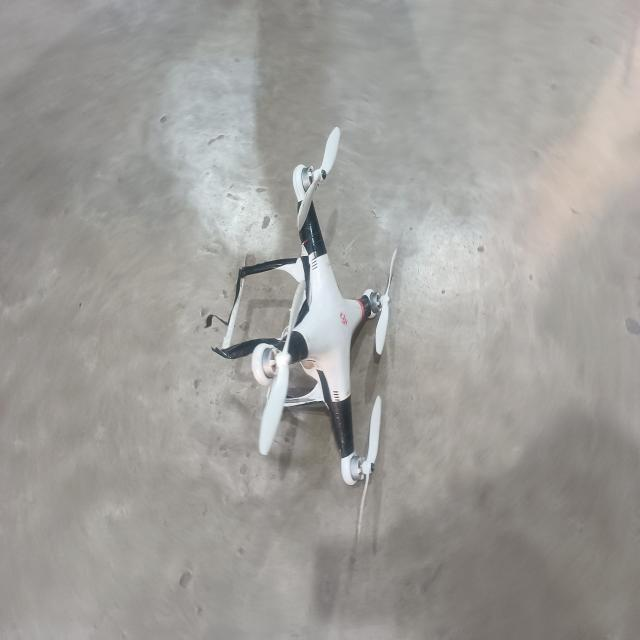drone: (201, 124, 400, 542)
